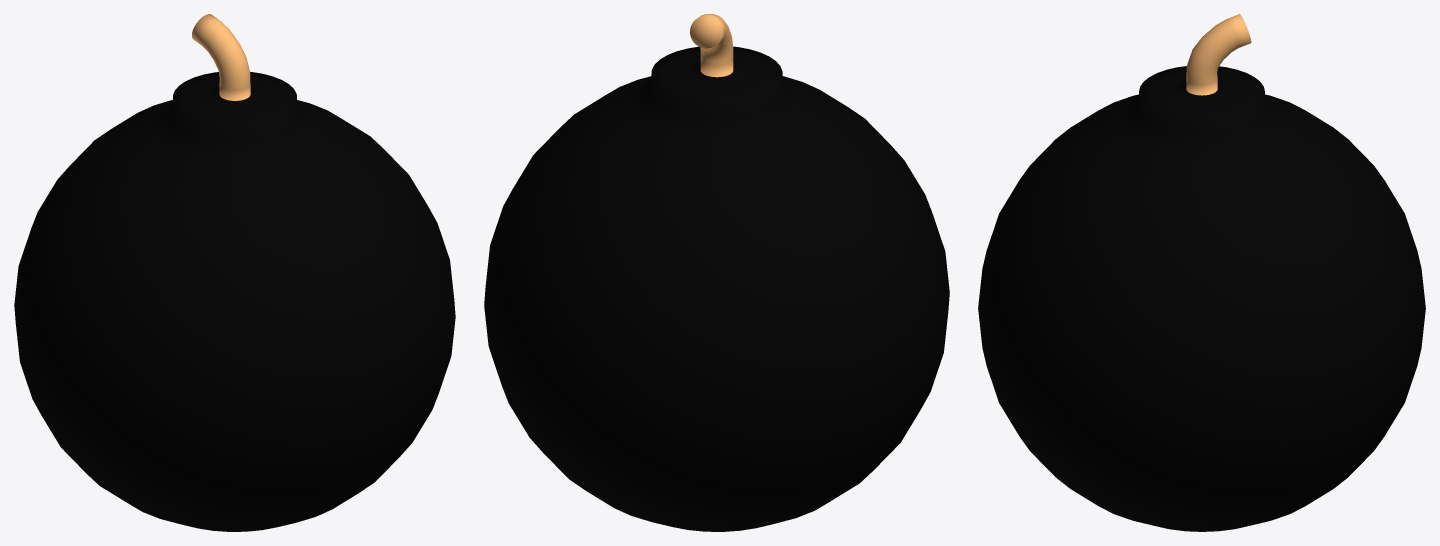
Rendered from bomb.fbx.
The picture shows the model from 3 angles, left to right: view 1: azimuth 30°, elevation 25°; view 2: azimuth 150°, elevation 25°; view 3: azimuth 270°, elevation 25°; orthographic projection. The views are drawn at different scales.
Visible parts, largest first — view 1: Sphere; view 2: Sphere; view 3: Sphere.
Boxes of the visible parts, <box> form: Sphere: <box>14,14,455,531</box>; Sphere: <box>484,14,949,531</box>; Sphere: <box>978,14,1425,531</box>.
Size of the model in its own units: 200 by 242 by 200.
